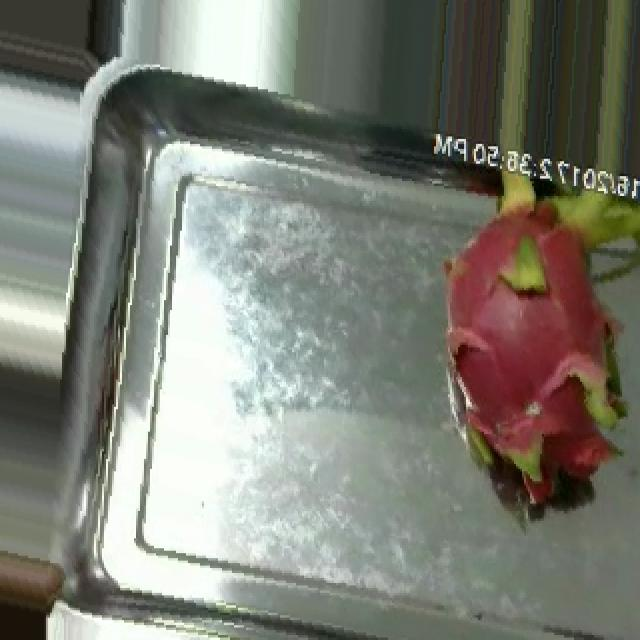fruit: (410, 139, 640, 548)
